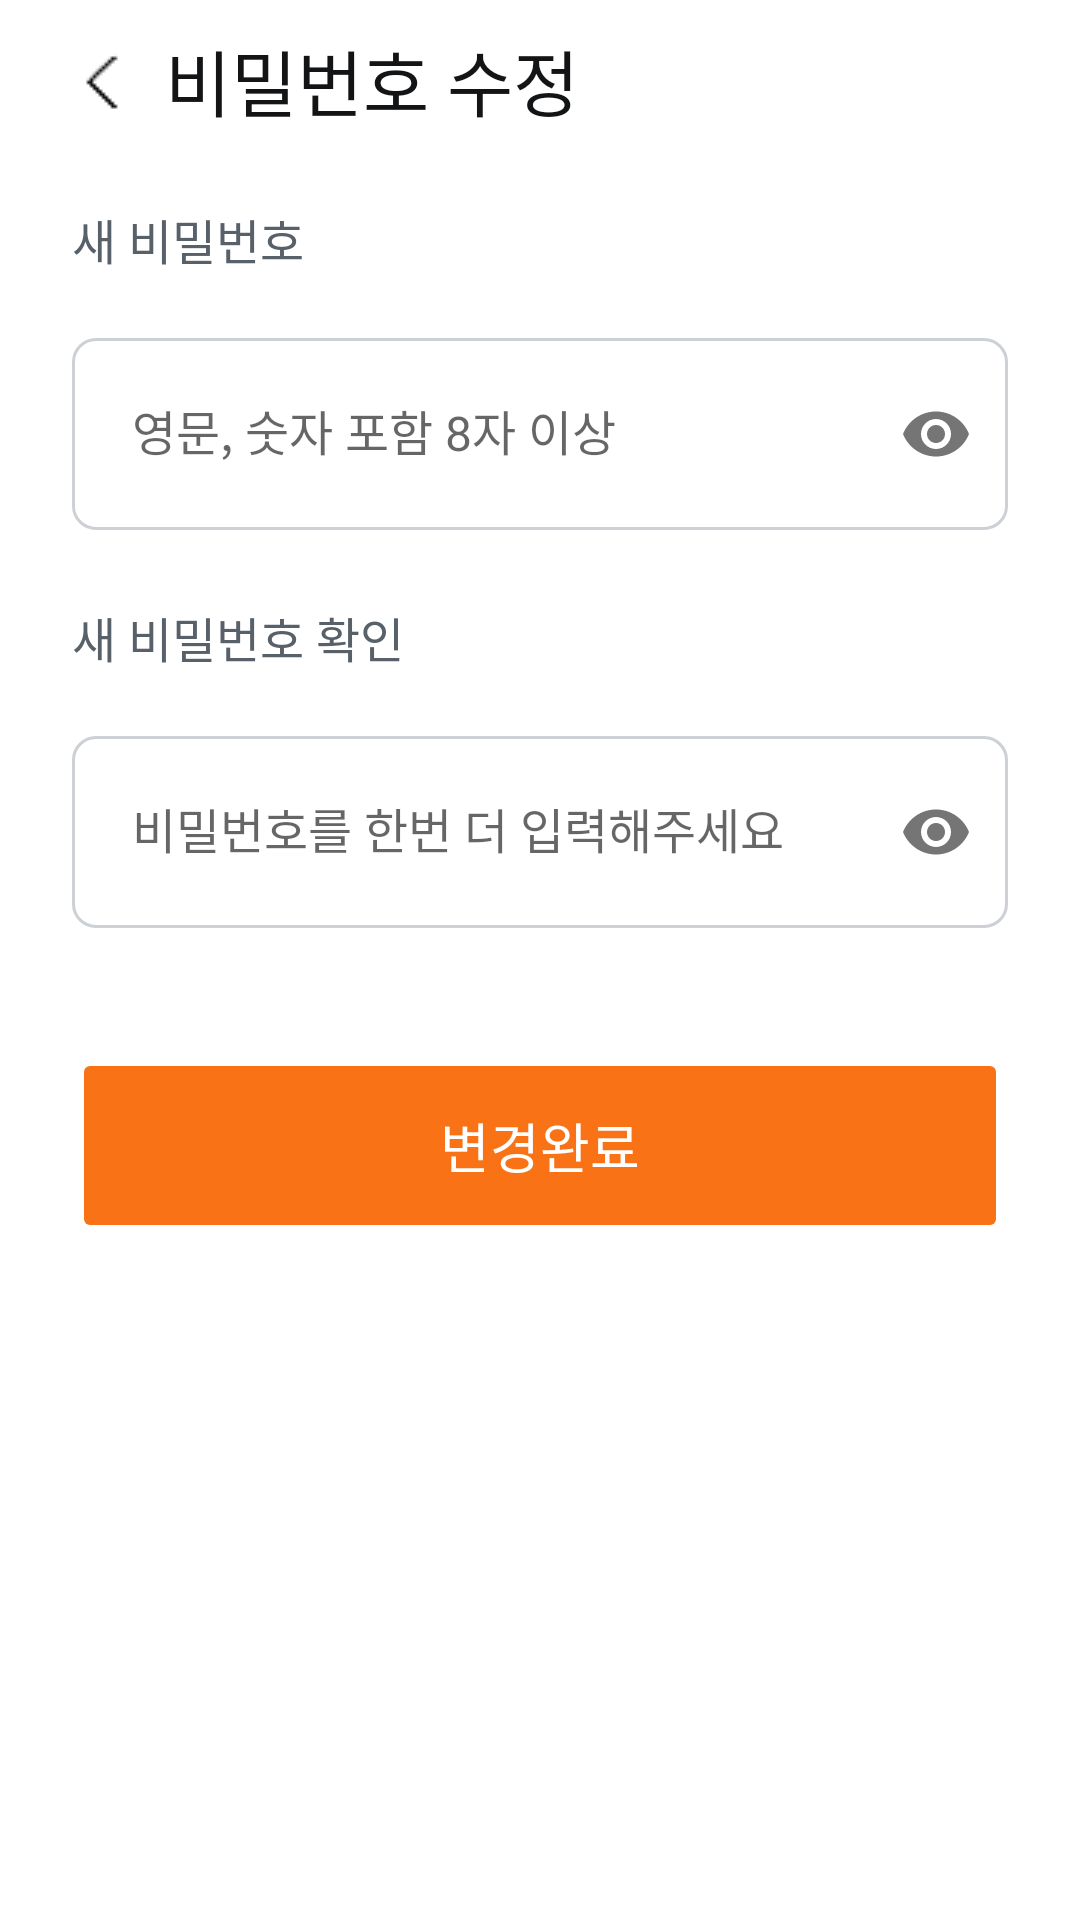

Where to tap for icons on this 1080*1920 app screen, as point (x, y):
back: point (102, 82)
